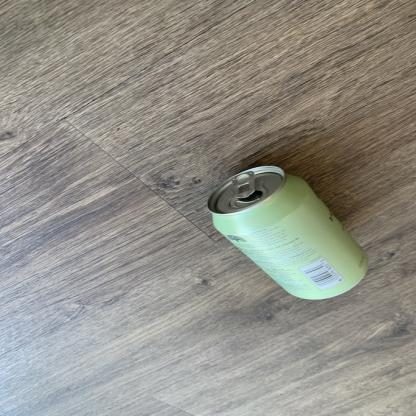Aerosols: (190, 163, 399, 313)
